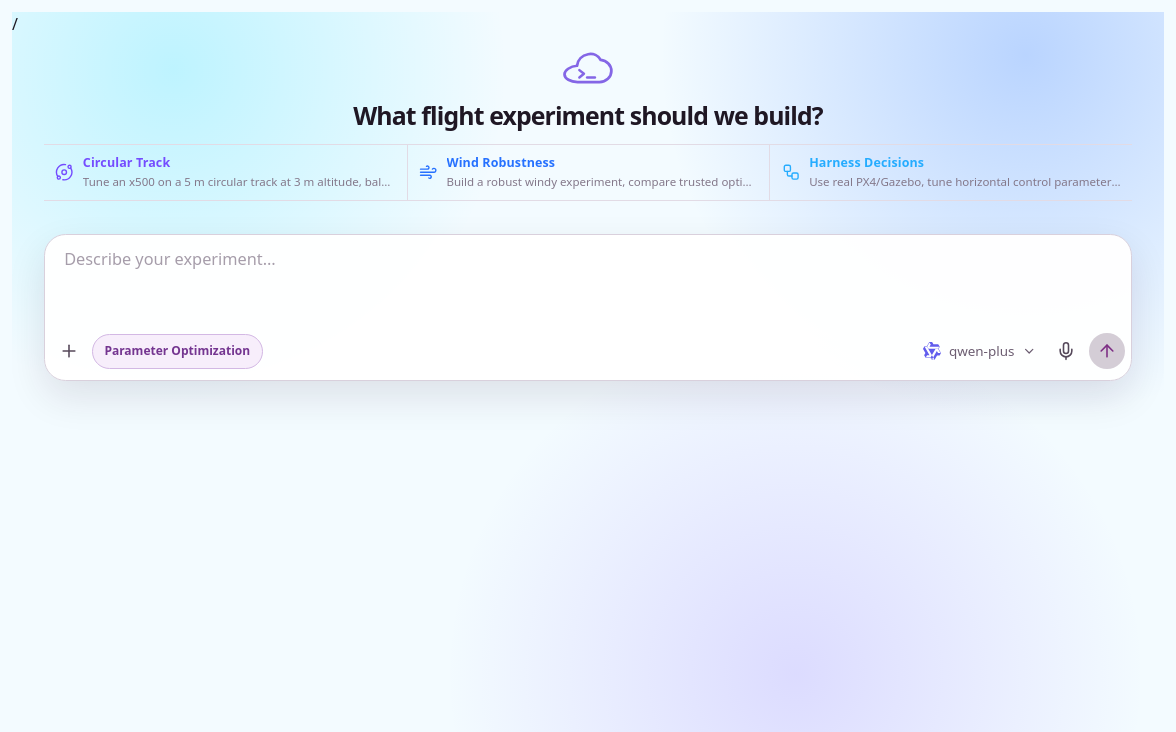
Scenario: conversational experiment drafting › compiles a turn into the shared V3 draft without persisting the API key
Type "Tune an x500 on a circular track at 3 metres and include MPC_XY_P." into the text box labelled "Describe your experiment…" at (588, 281), box [45,235,1131,326]
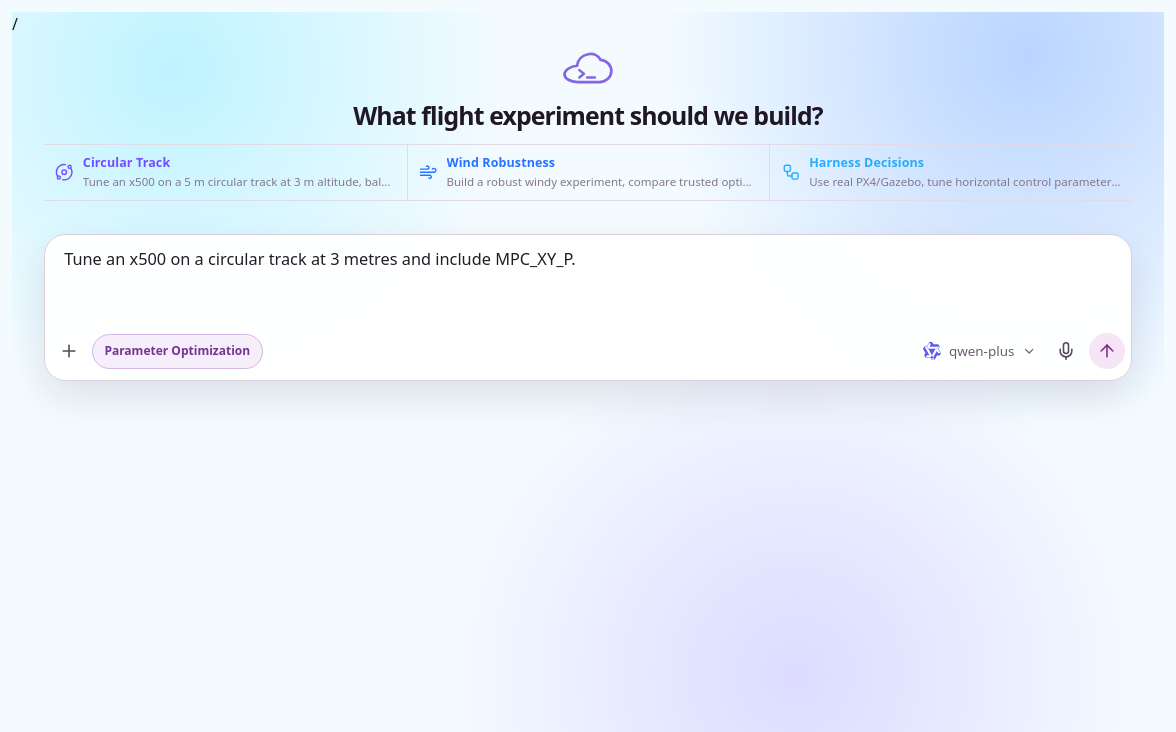
Click the button named "Send" at (1107, 351), box [1089,333,1125,369]
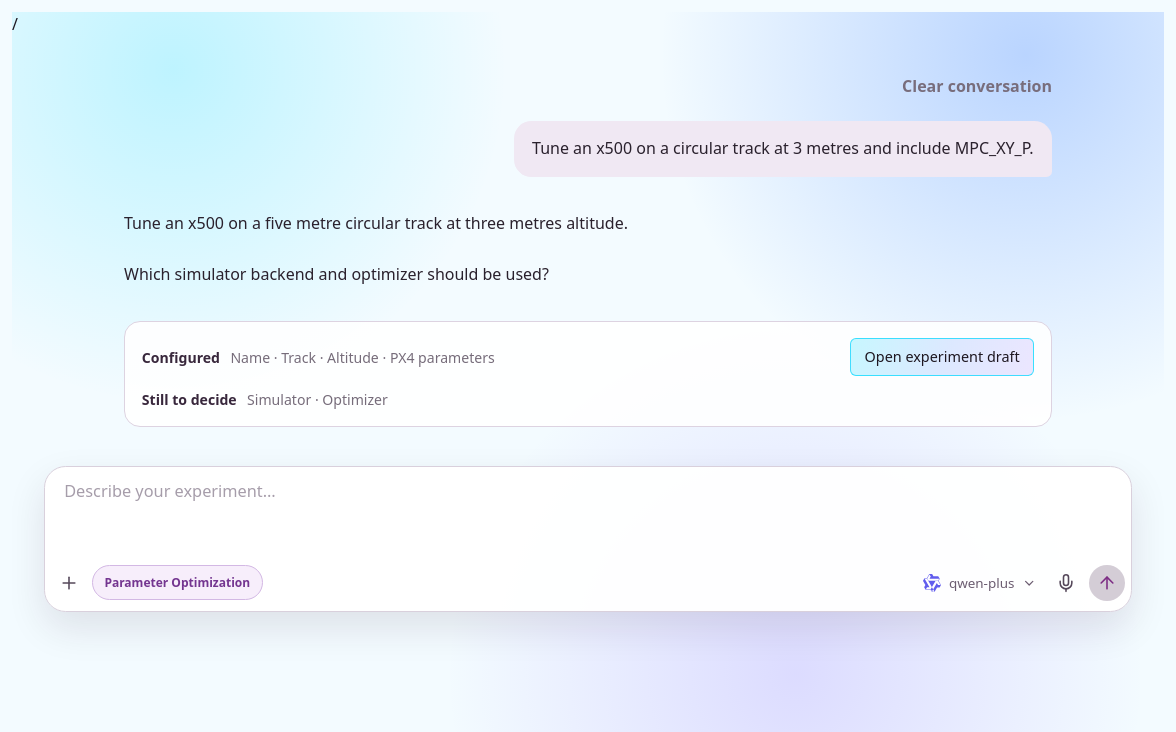
expect the text "Tune an x500 on a five metre circular track" is shown: met, box [124,212,628,285]
expect the text "Still to decide" is shown: met, box [142,389,237,410]
expect the button "Open experiment draft" is enabled: met, box [850,338,1034,376]
